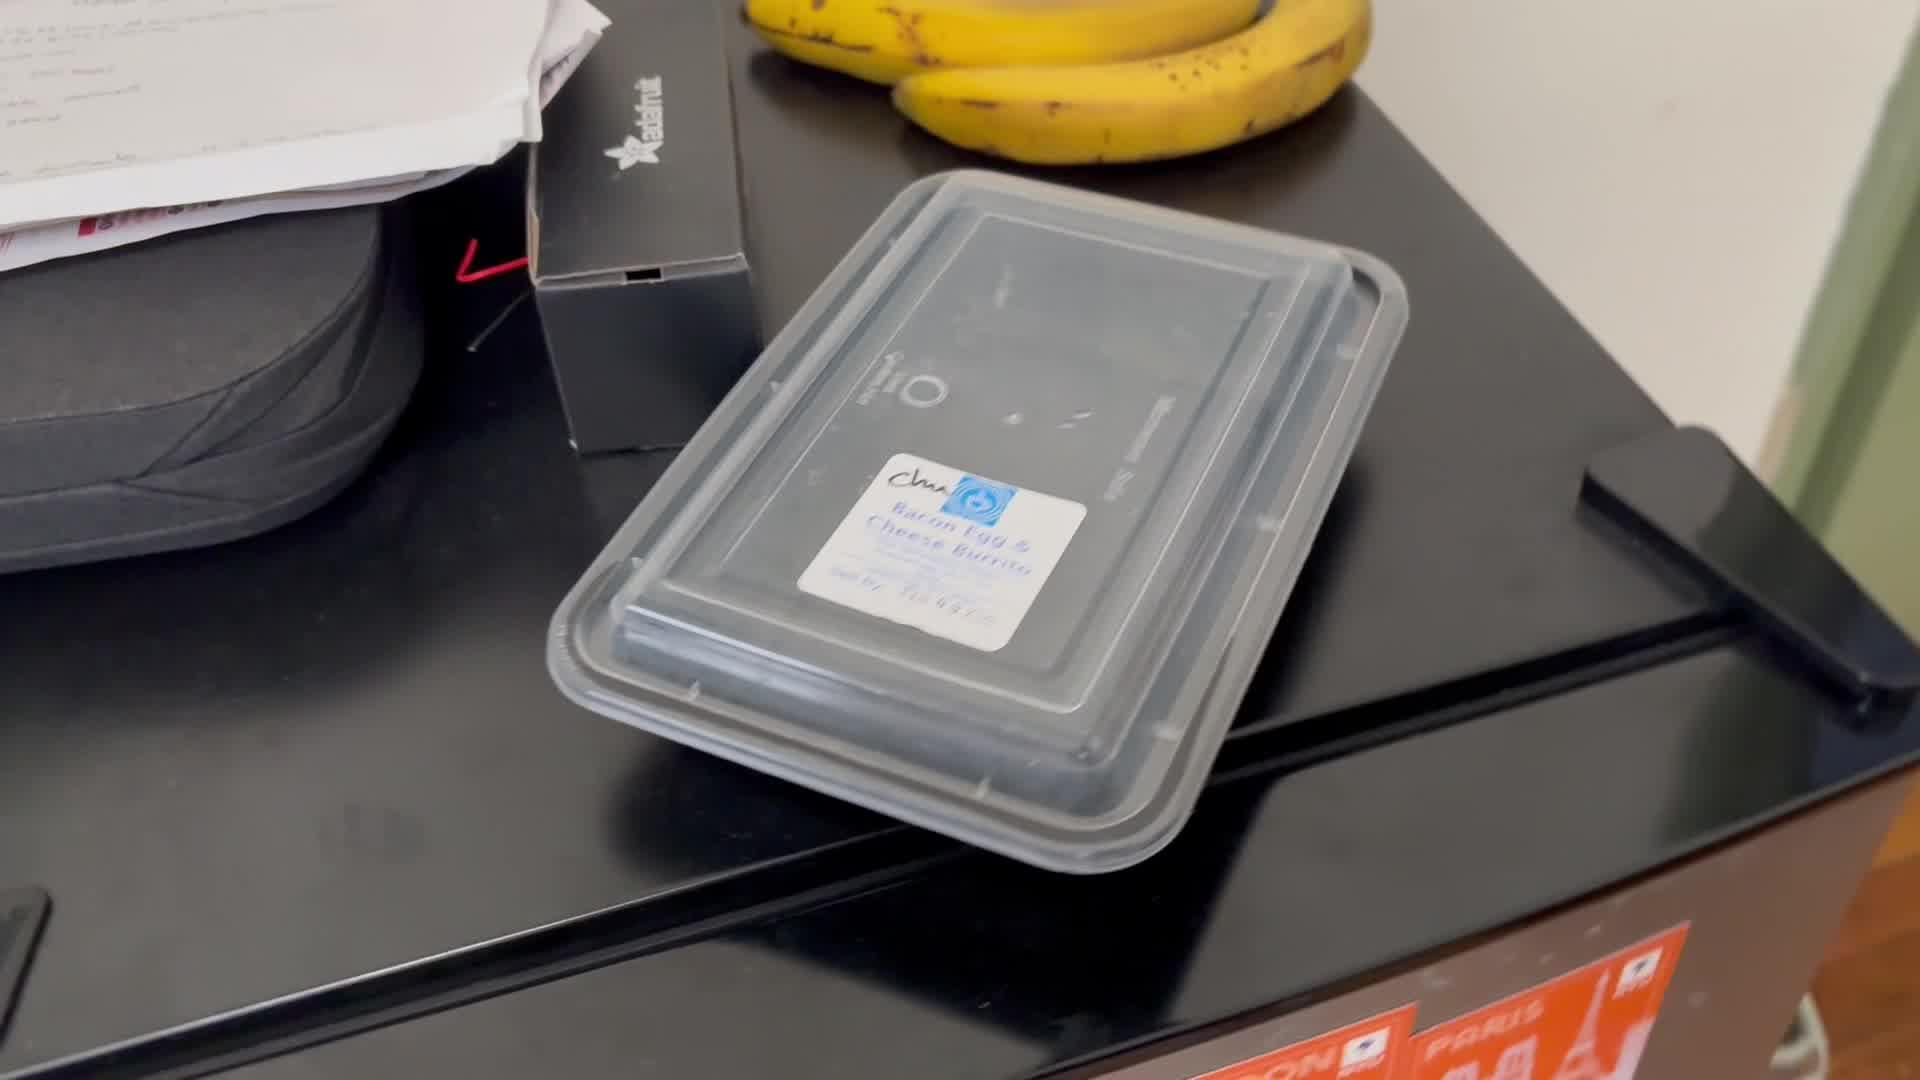lp_cup_lids: (526, 164, 1427, 876)
